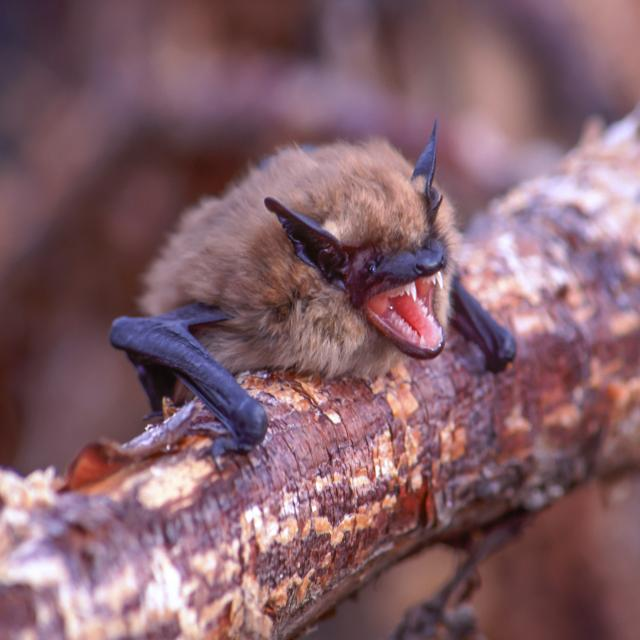Bat: (108, 121, 528, 468)
